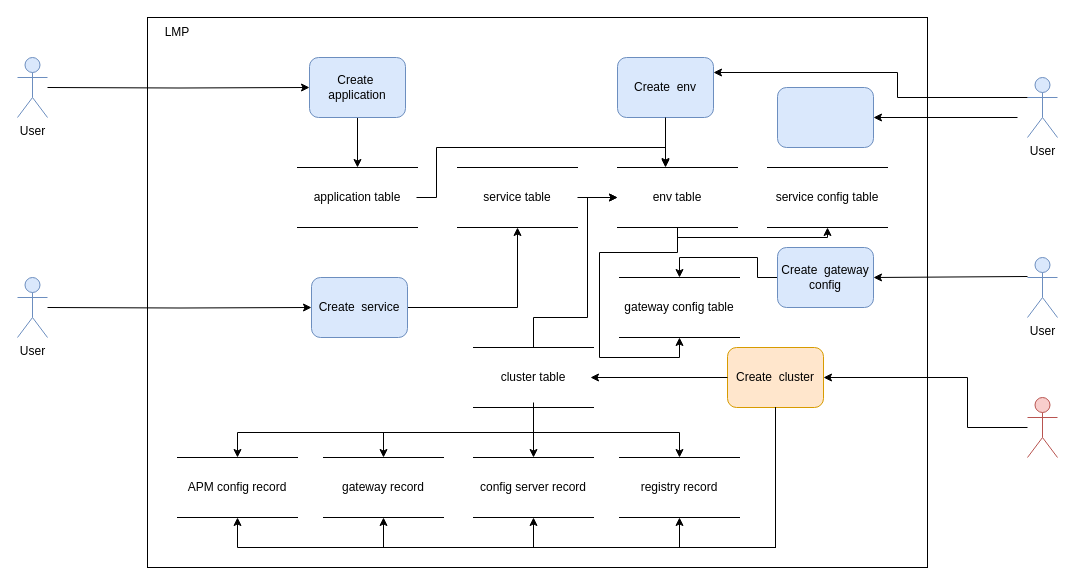
Image size: 1077x585. Some labels were removed from this diagram. The centre of each missing label's shape, as x and y in pixels:
Admin: the point at 1042,427
Create config: the point at 825,117
